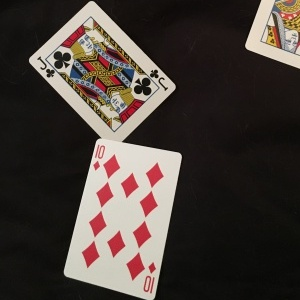card: (63, 136, 185, 299)
